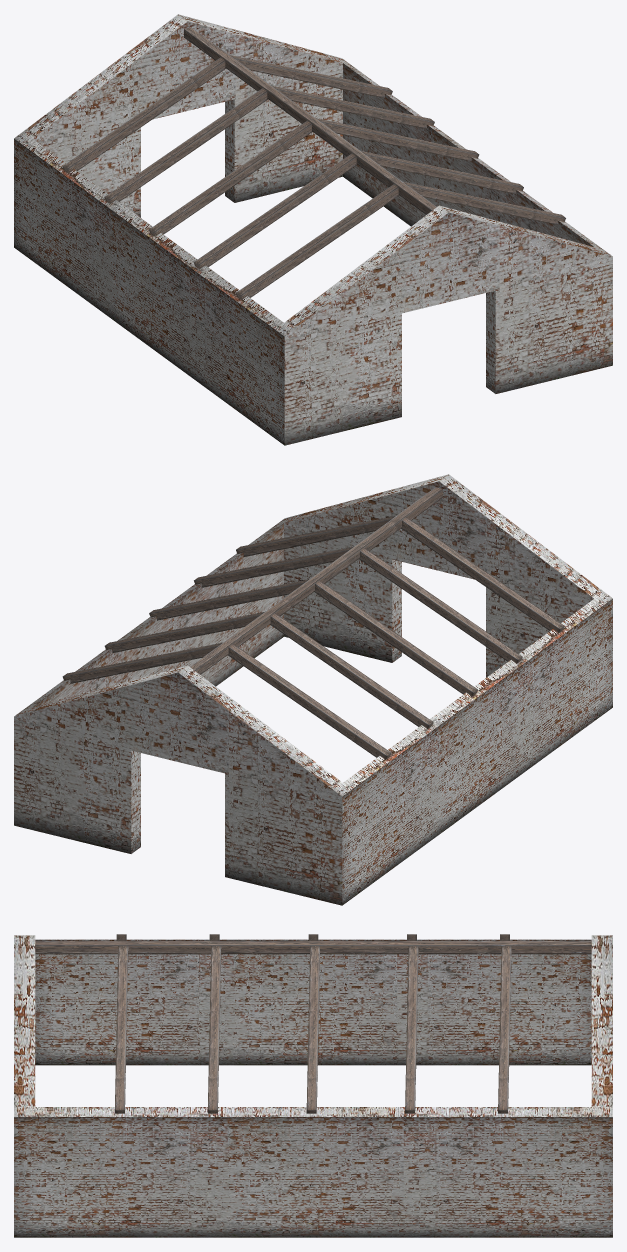
The model's file is r402_tushnolobovo_angar2.FBX.
3 views of the same model, one above another, from view 1: azimuth 30°, elevation 25°; view 2: azimuth 150°, elevation 25°; view 3: azimuth 270°, elevation 25° (orthographic). The views are drawn at different scales.
Visible parts, largest first — view 1: r402_tushnolobovo_angar2; view 2: r402_tushnolobovo_angar2; view 3: r402_tushnolobovo_angar2.
Part boxes in pixels (left/top/right/bottom): r402_tushnolobovo_angar2: left=14, top=14, right=612, bottom=445; r402_tushnolobovo_angar2: left=14, top=474, right=612, bottom=905; r402_tushnolobovo_angar2: left=14, top=934, right=612, bottom=1237.
Bounding box in the file's own units: 1260 × 1800 × 709.
